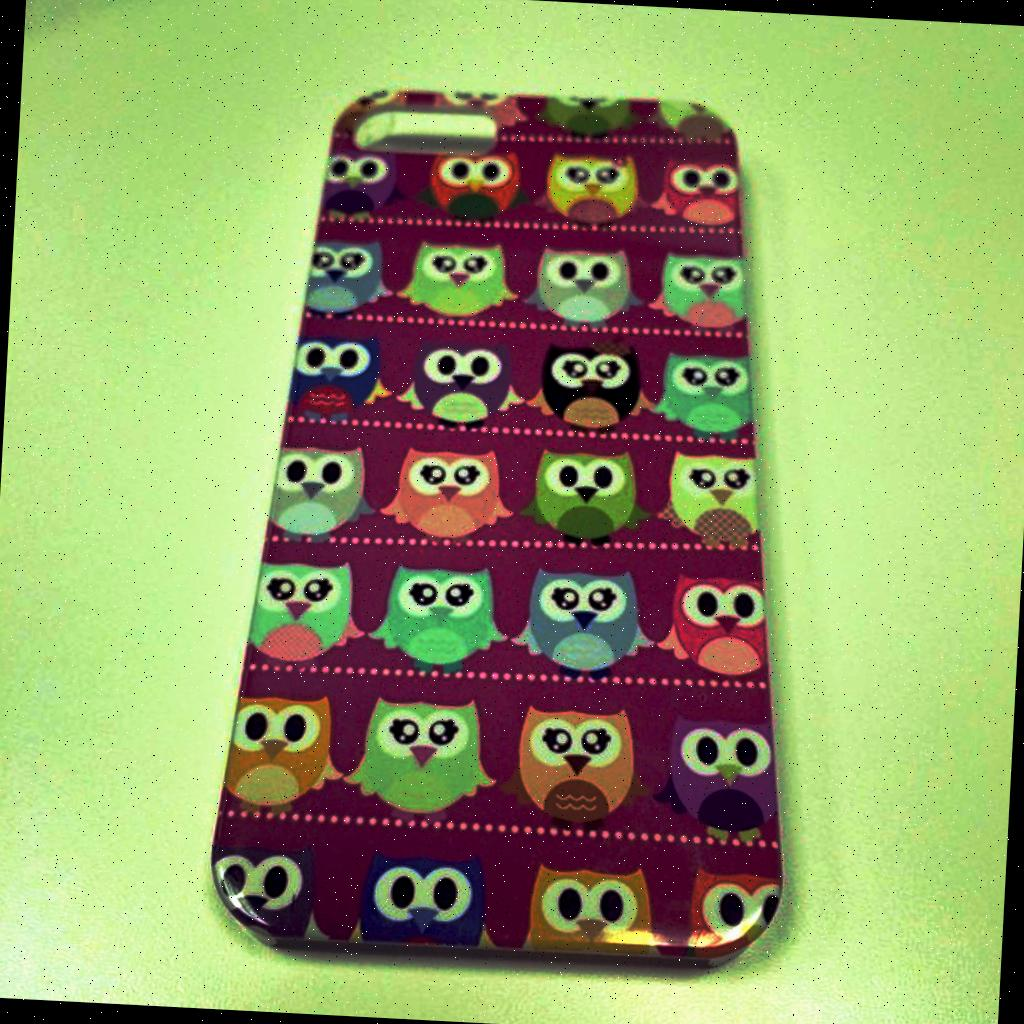Owl: (338, 694, 504, 830), (498, 704, 654, 834), (505, 563, 660, 683), (360, 560, 509, 672), (655, 718, 784, 842), (222, 688, 344, 817), (353, 846, 507, 948), (240, 552, 364, 676), (518, 444, 653, 556), (524, 860, 668, 960), (263, 435, 378, 551), (372, 448, 507, 546), (524, 340, 659, 436), (659, 574, 778, 680), (390, 342, 530, 430), (210, 840, 330, 938), (517, 246, 646, 326), (690, 864, 783, 972), (654, 348, 756, 442), (291, 336, 397, 426), (661, 456, 763, 549), (397, 244, 515, 320), (650, 249, 758, 332), (541, 147, 651, 227), (430, 146, 528, 228), (648, 156, 752, 230), (303, 241, 395, 323), (318, 152, 409, 222), (542, 86, 640, 139), (438, 88, 534, 132), (334, 84, 406, 138), (648, 98, 732, 144)
